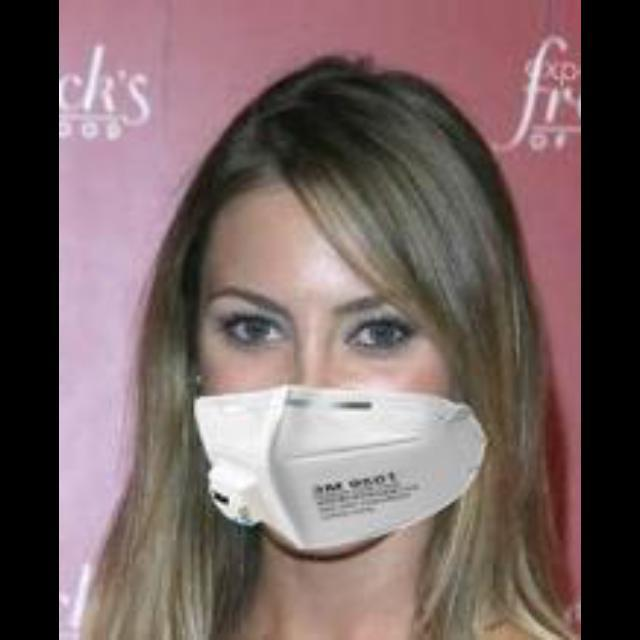suspicion: (167, 102, 516, 560)
